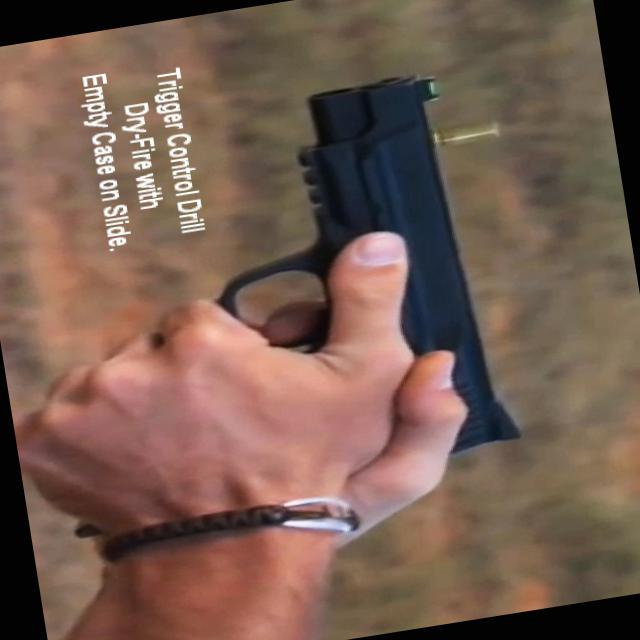handgun: (163, 55, 549, 505)
